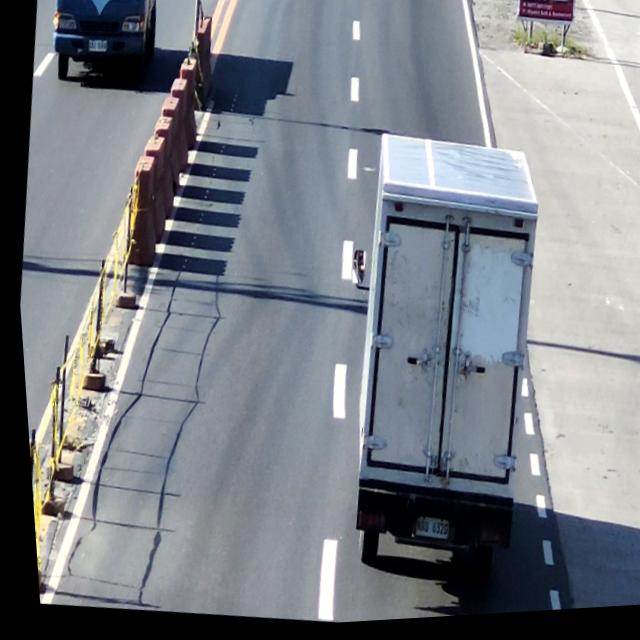License-Plate: (400, 512, 447, 553)
Truck: (313, 128, 556, 599)
